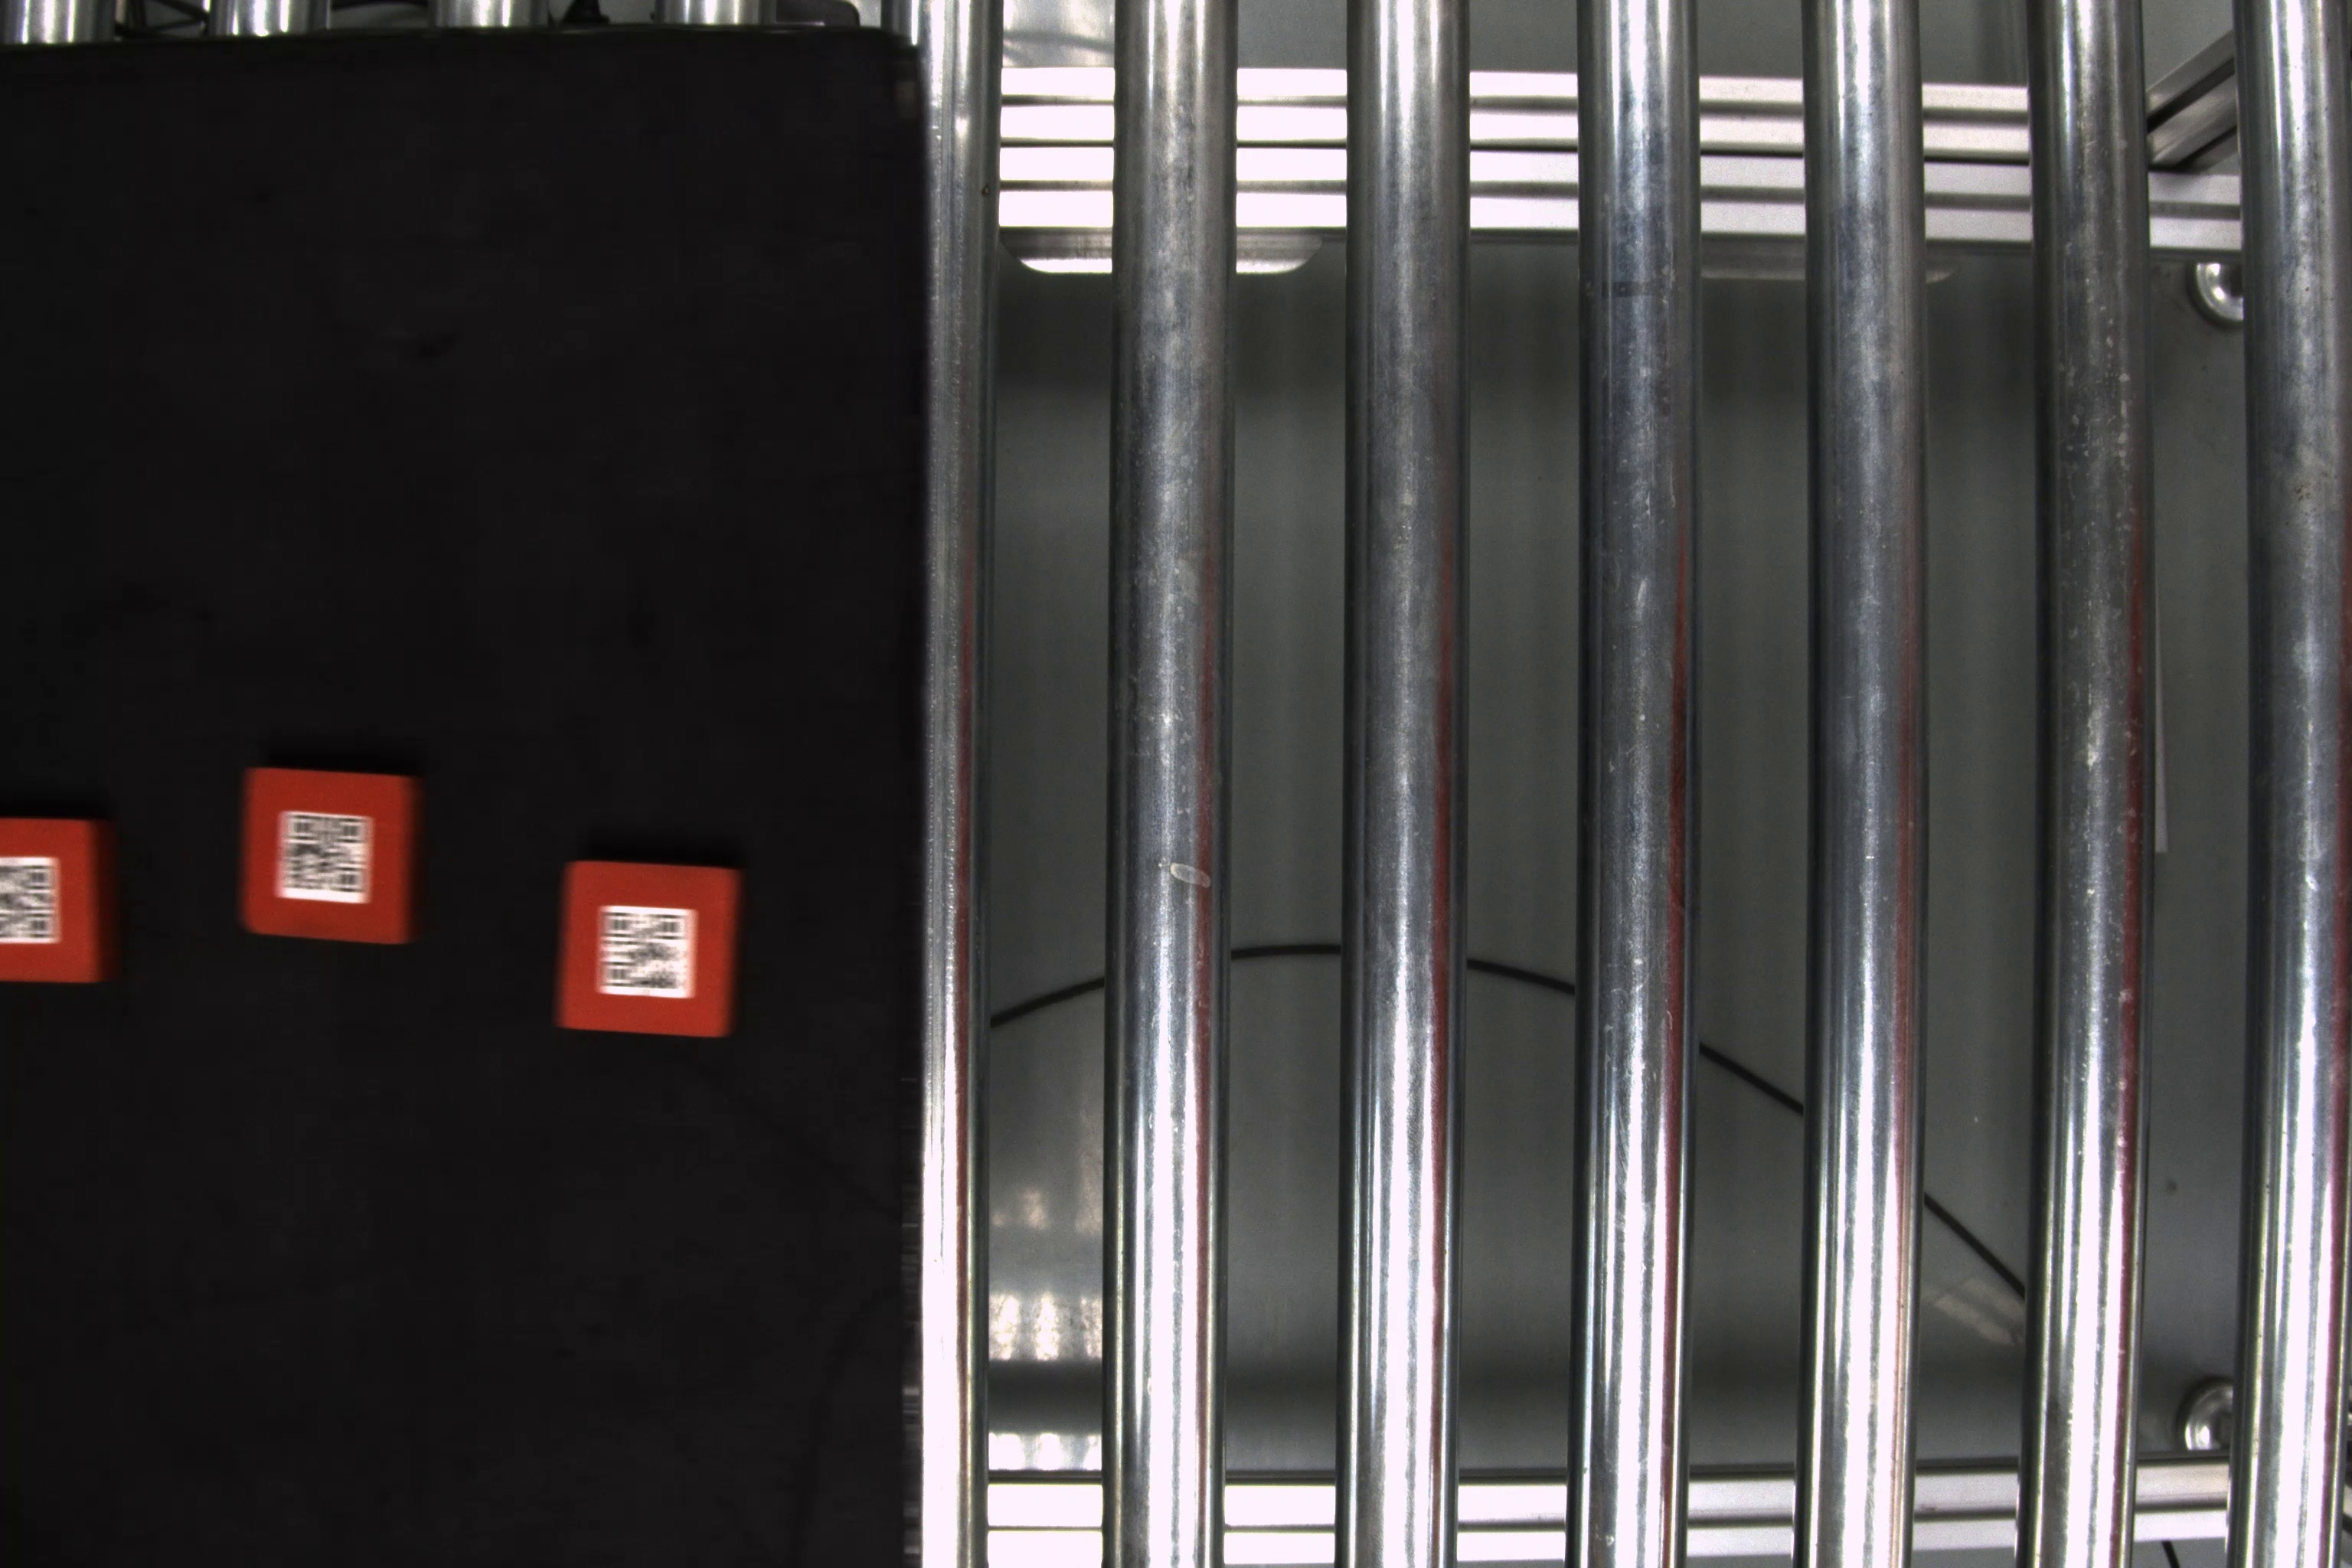wood: (560, 852, 742, 1039), (241, 759, 422, 948), (2, 808, 133, 989)
